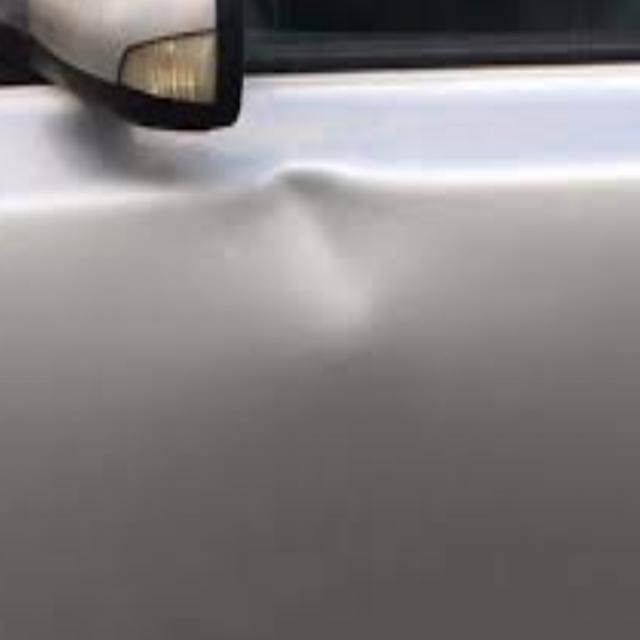dents: (218, 154, 404, 358)
